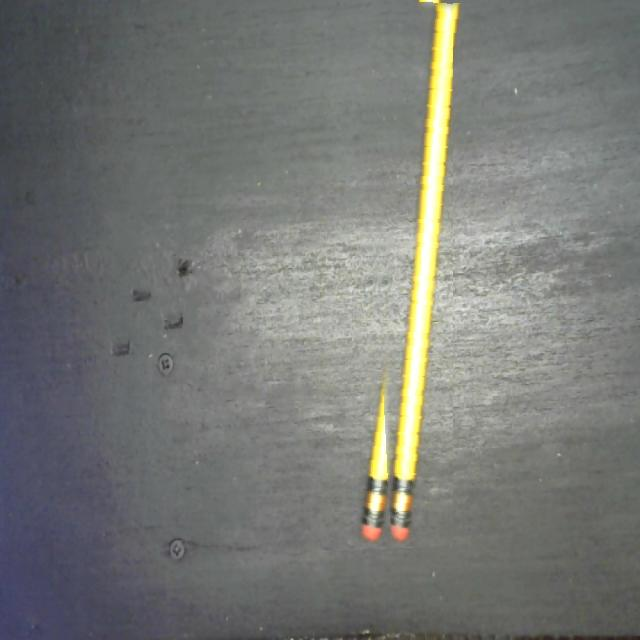biodegradable: (363, 0, 453, 548)
